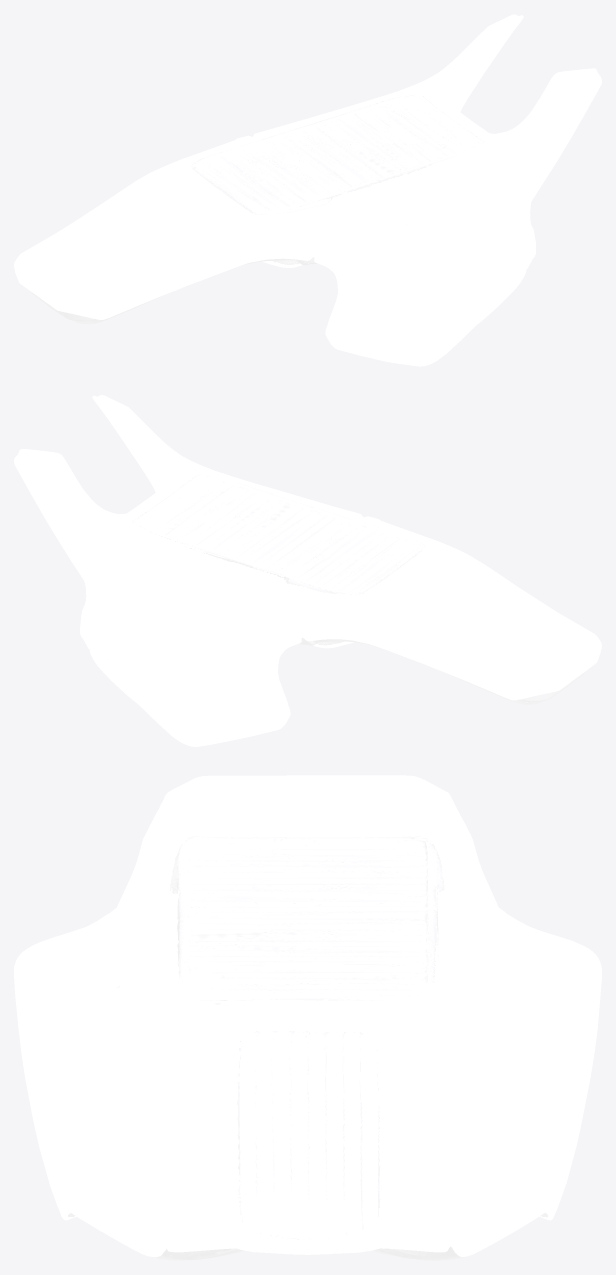
Rendered from tail.glb.
3 views of the same model, one above another, from view 1: azimuth 30°, elevation 25°; view 2: azimuth 150°, elevation 25°; view 3: azimuth 270°, elevation 25° (orthographic). The views are drawn at different scales.
Parts seen in each view (by area): view 1: Mesh_0; view 2: Mesh_0; view 3: Mesh_0.
Boxes of the visible parts, x1=… form: Mesh_0: x1=14, y1=14, x2=601, y2=366; Mesh_0: x1=14, y1=395, x2=601, y2=746; Mesh_0: x1=14, y1=775, x2=601, y2=1260.
Size of the model in its own units: 1.9 by 0.7693 by 1.08.
1 material, 1 textured.
